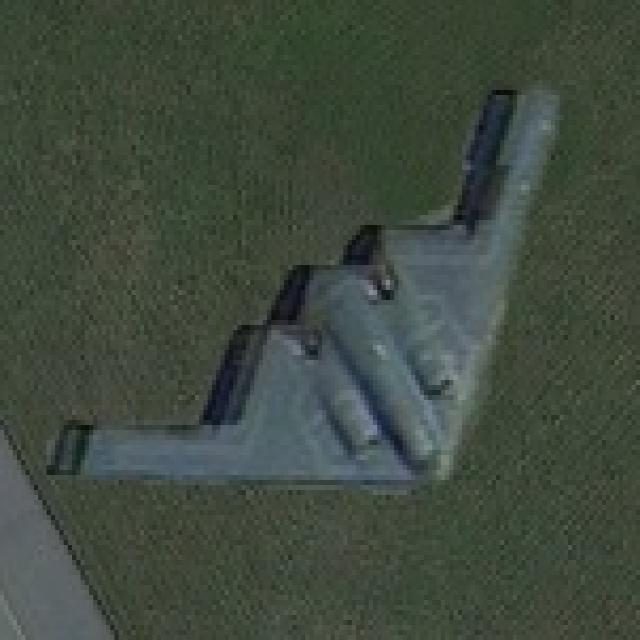B-2_TopDown: (38, 70, 568, 505)
